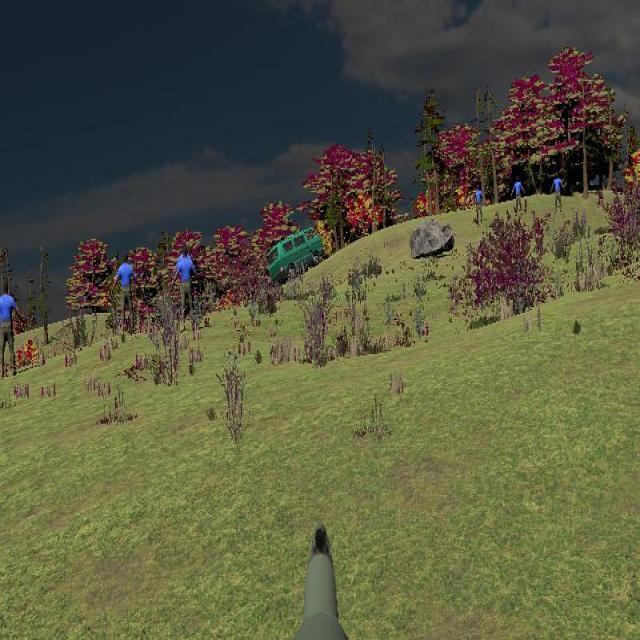Human: (172, 243, 202, 334), (0, 278, 25, 379), (112, 251, 140, 336), (551, 171, 565, 216), (511, 175, 525, 218), (474, 183, 485, 227)
car: (267, 228, 323, 287)
